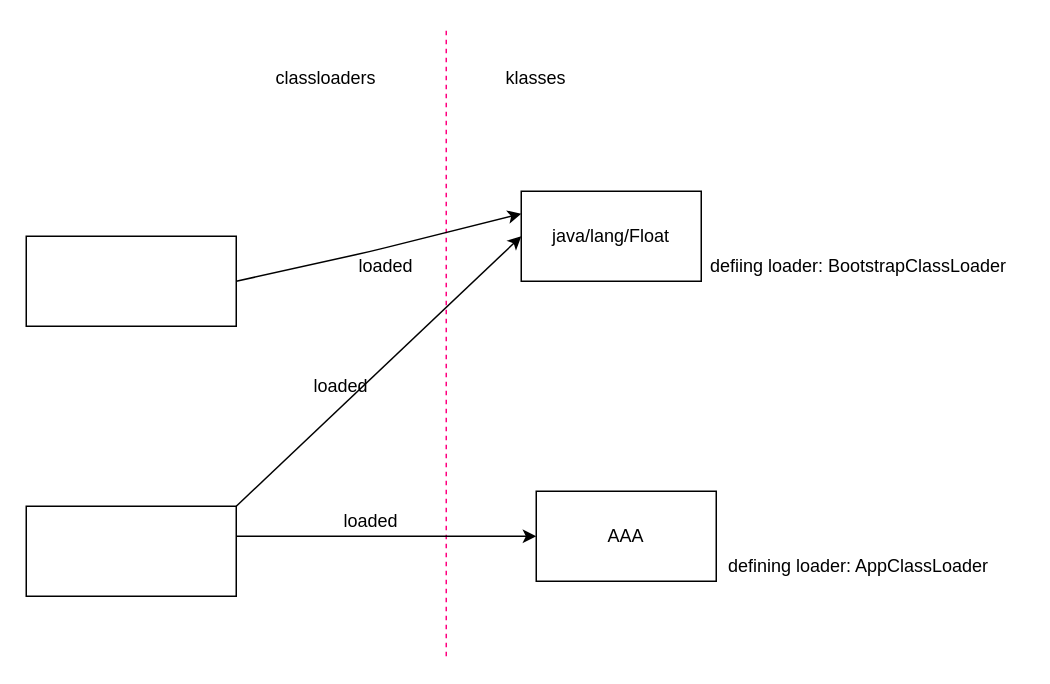
The diagram is 1050 pixels wide and 684 high, and some of its shapes have lost their labels. The shapes that lost their labels are listed below. From the top down, each one's centre as x and y in pixels, then its label:
(x=130, y=280): BootstrapClassLoader
(x=130, y=550): AppClassLoader
